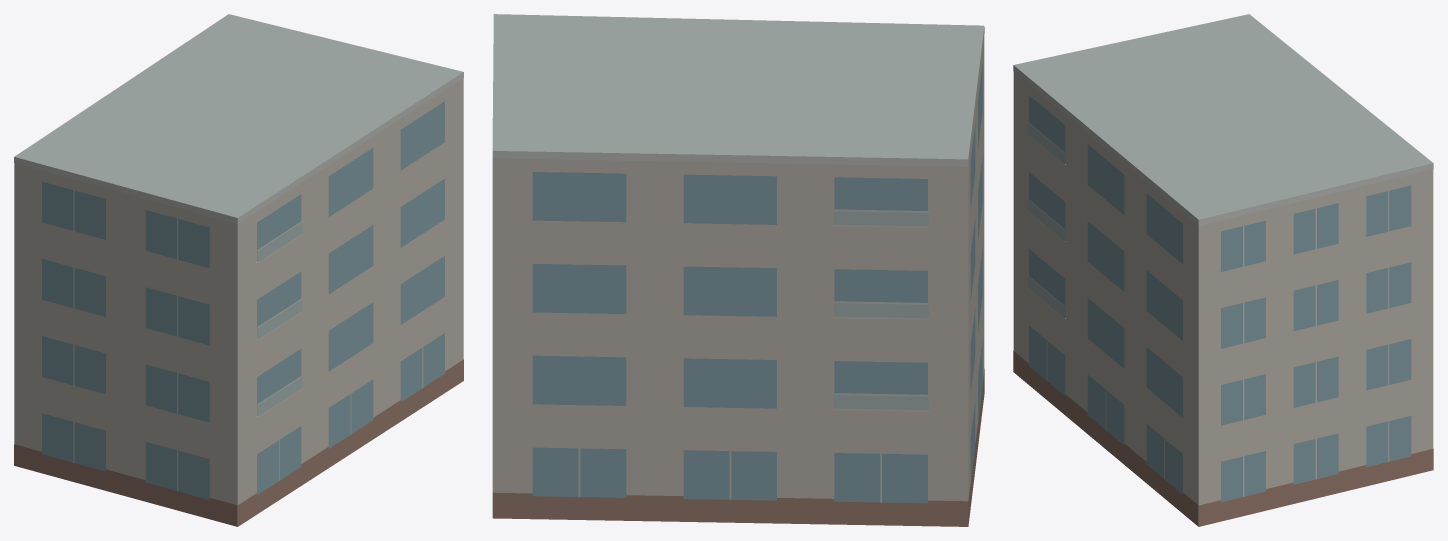
Rendered from survey-upis-32711835.glb.
3 renders of one model, left to right at view 1: azimuth 30°, elevation 25°; view 2: azimuth 150°, elevation 25°; view 3: azimuth 270°, elevation 25°, orthographic. The views are drawn at different scales.
Visible parts, largest first — view 1: survey-upis-32711835.tmp; view 2: survey-upis-32711835.tmp; view 3: survey-upis-32711835.tmp.
Boxes of the visible parts, bbox=[...] form: survey-upis-32711835.tmp: bbox=[14, 14, 463, 526]; survey-upis-32711835.tmp: bbox=[492, 14, 984, 526]; survey-upis-32711835.tmp: bbox=[1013, 14, 1433, 526].
Size of the model in its own units: 17.54 by 12.2 by 15.13.
